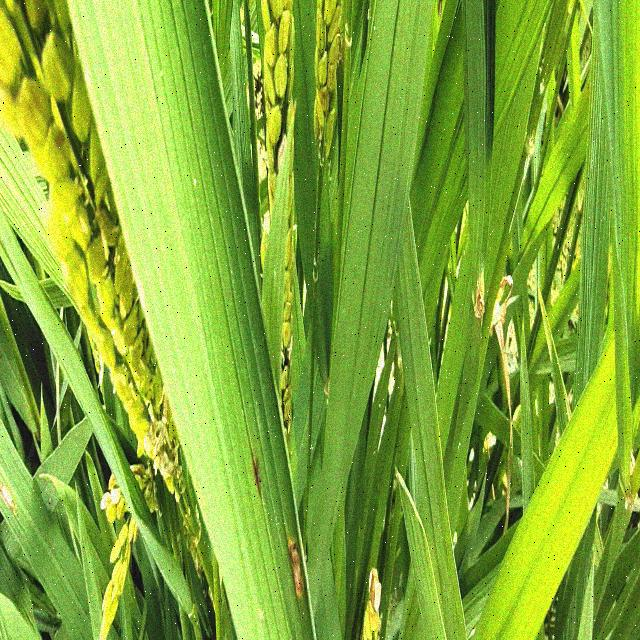LEAF BLAST: (288, 539, 304, 600)
